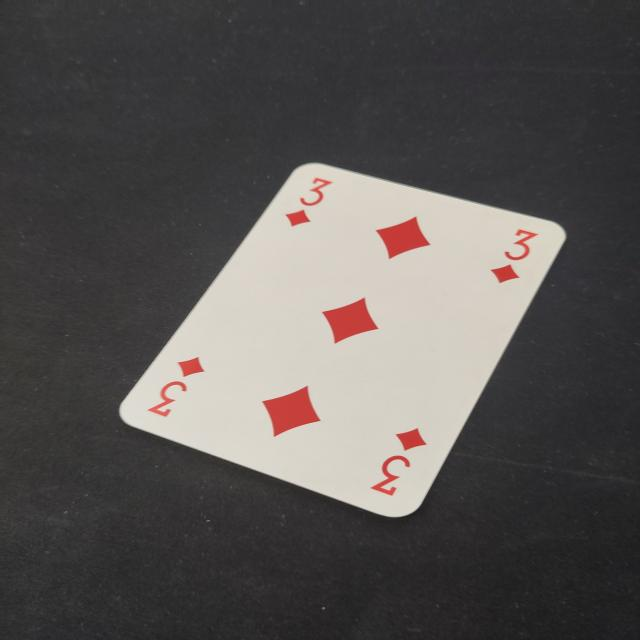3d: (363, 421, 441, 503), (140, 352, 218, 426), (483, 224, 543, 293), (276, 171, 333, 235)
